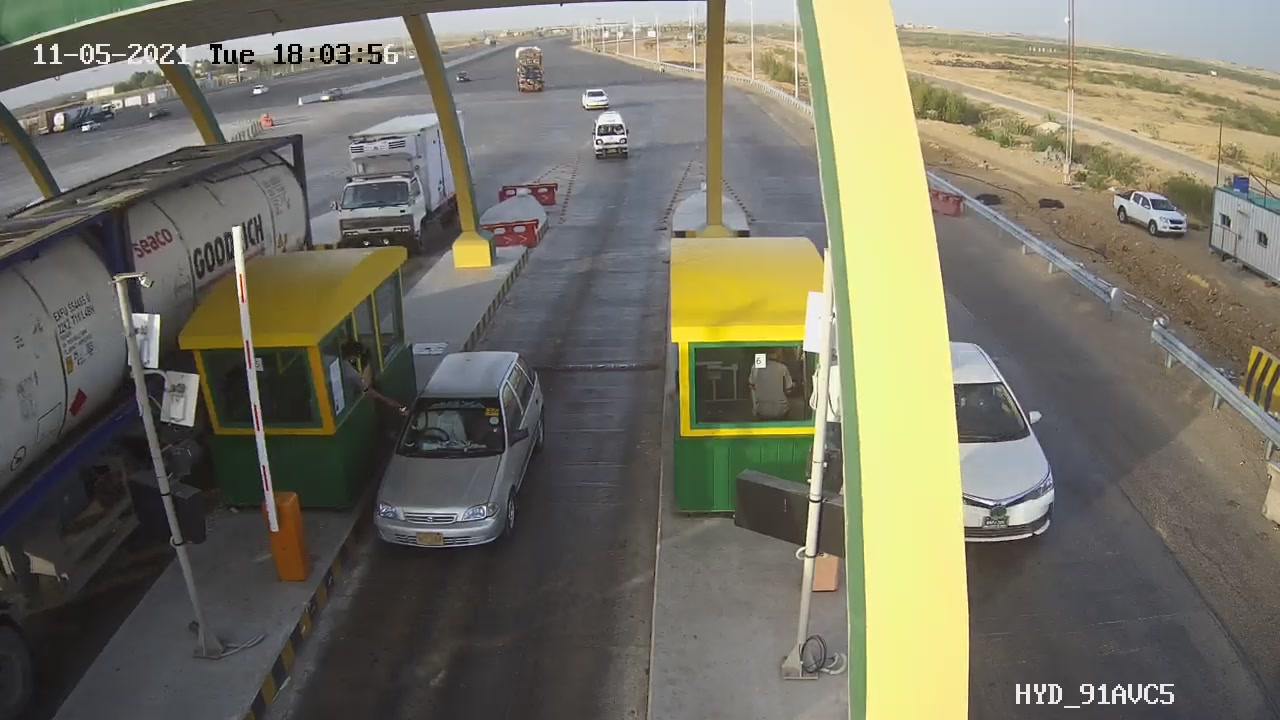F1: (358, 326, 564, 570)
